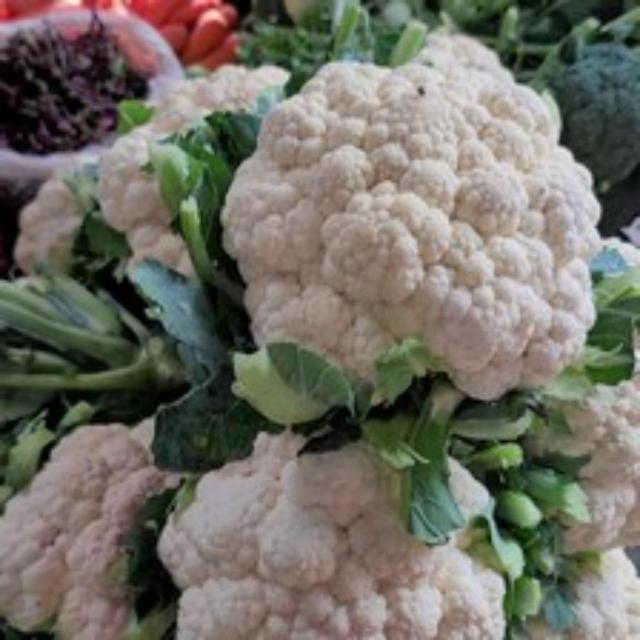cauliflower: (223, 28, 628, 418)
